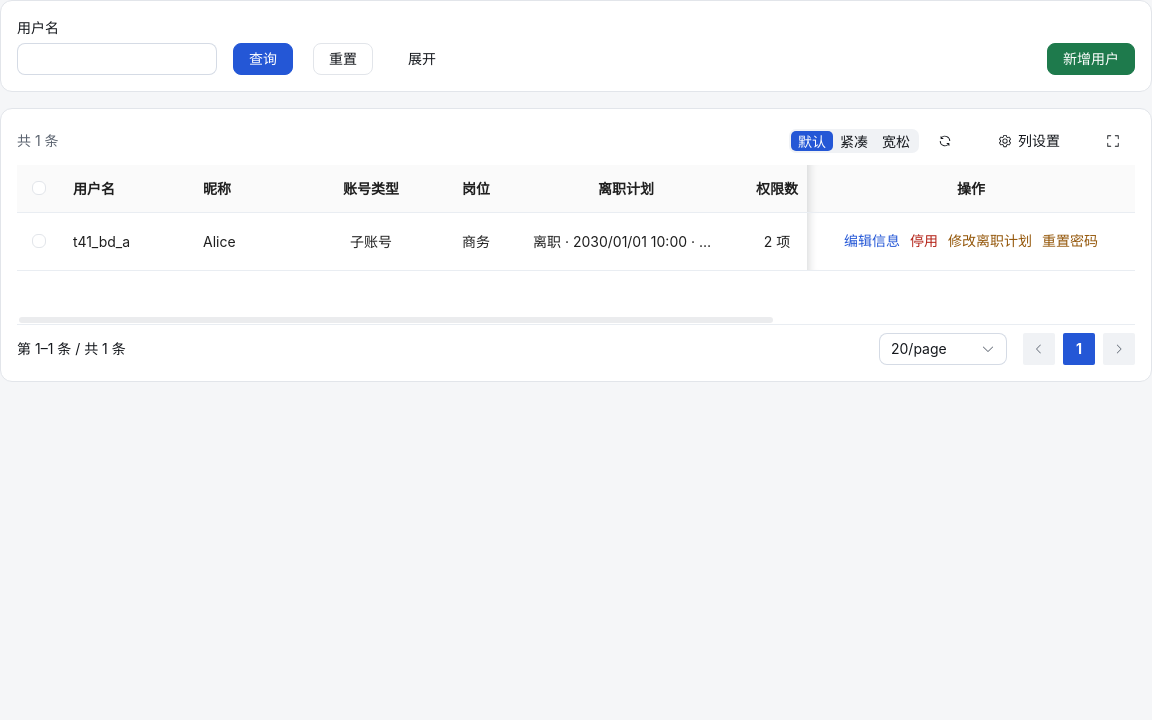
Test: user list departure column (task 41) › shows the pending plan with the heir still to be named
Click the button "修改离职计划" at (990, 241), box [947,229,1033,253]
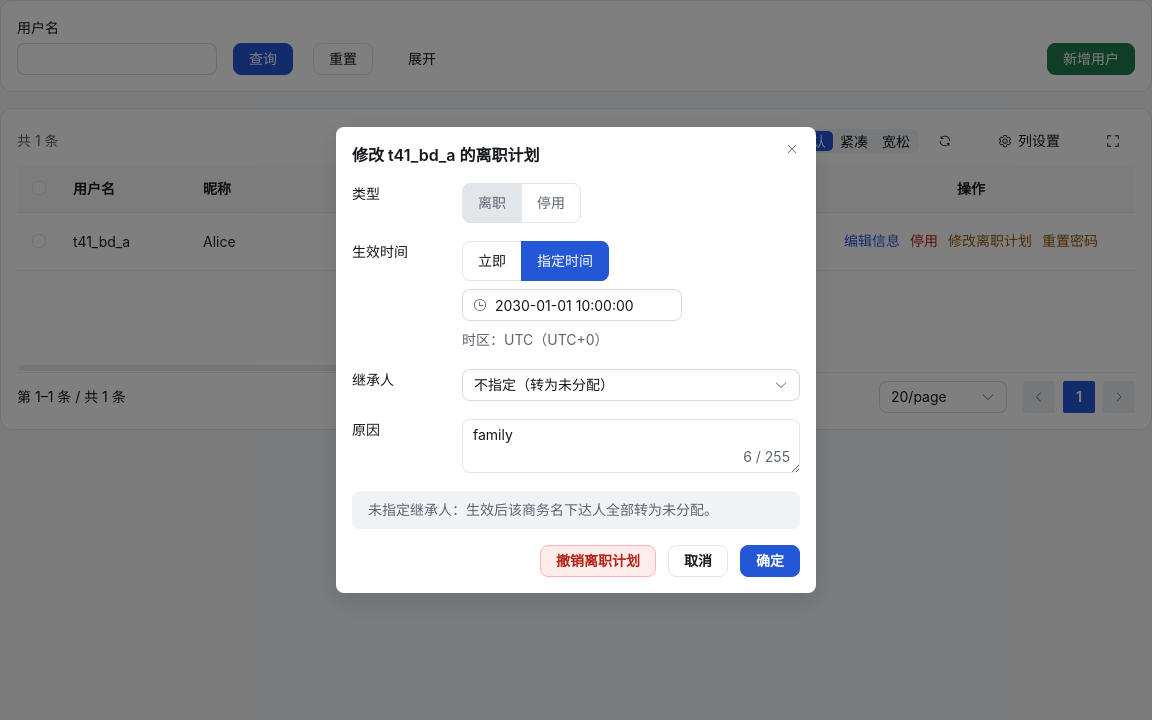
Expected: the button with test id "cancel-departure-plan" reads "撤销离职计划", [540,545,656,577]
